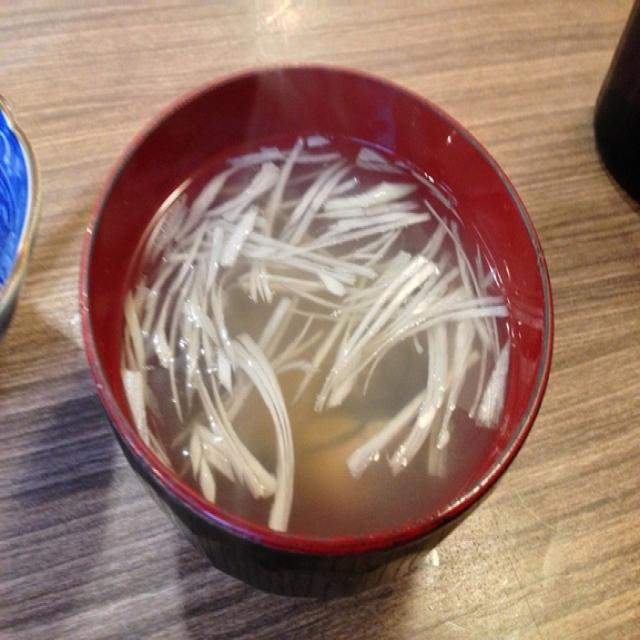汤锅炖物: (83, 90, 534, 551)
